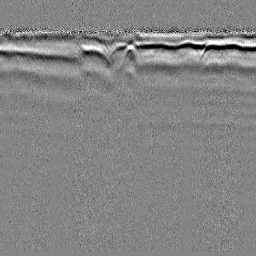cavity: (121, 42, 139, 65)
